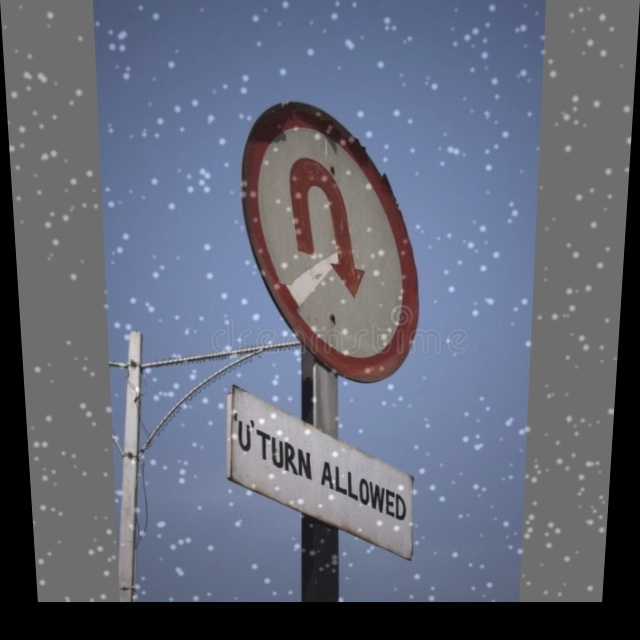U_Turn_Ahead: (243, 87, 444, 384)
